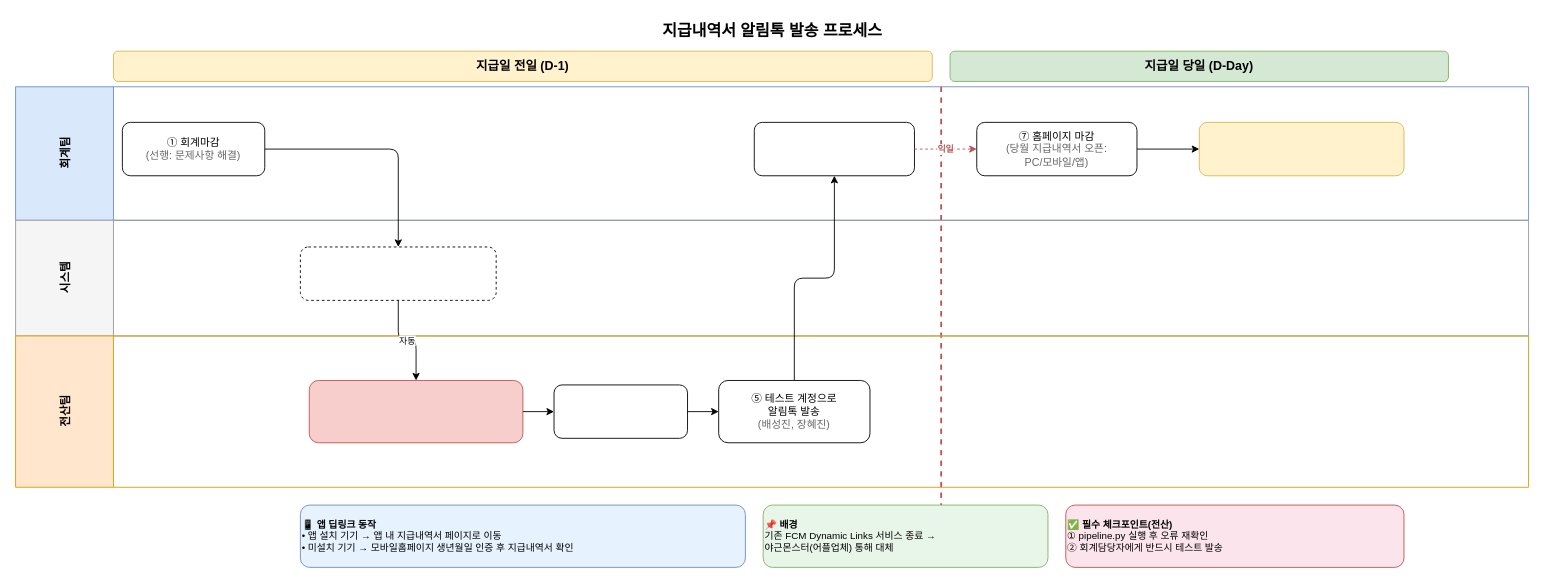
Some shapes in this 1544 by 583 pixel diagram are drawn without their labels. Here are the shapes that lost their labels. From the top down, the centre of each, then its label:
At point 833,148: "⑥ 딥링크 정상동작 확인 (테스트 알림톡 수신)".
At point 1301,148: "⑧ 지급내역서 이메일 발송 → 알림톡 실제 발송".
At point 397,273: "② 알림톡 임시데이터 생성 ※ 이 시점엔 앱 딥링크 없음".
At point 415,411: "③ 링크 UPDATE 실행 repo/지급내역서/pipeline.py ⏱ 약 2~3시간 소요".
At point 620,411: "④ 오류 내용 재실행 확인".
